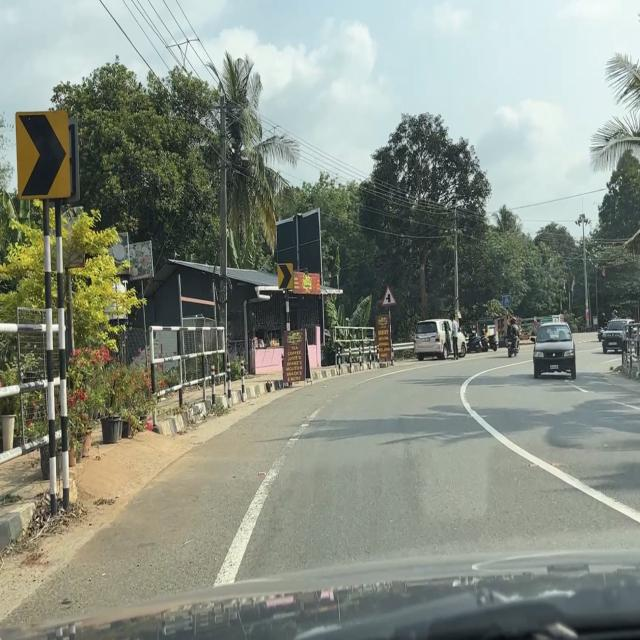SIDE_ROAD_LEFT: (381, 285, 397, 307)
TURN_RIGHT: (15, 109, 71, 201), (278, 263, 294, 290)
